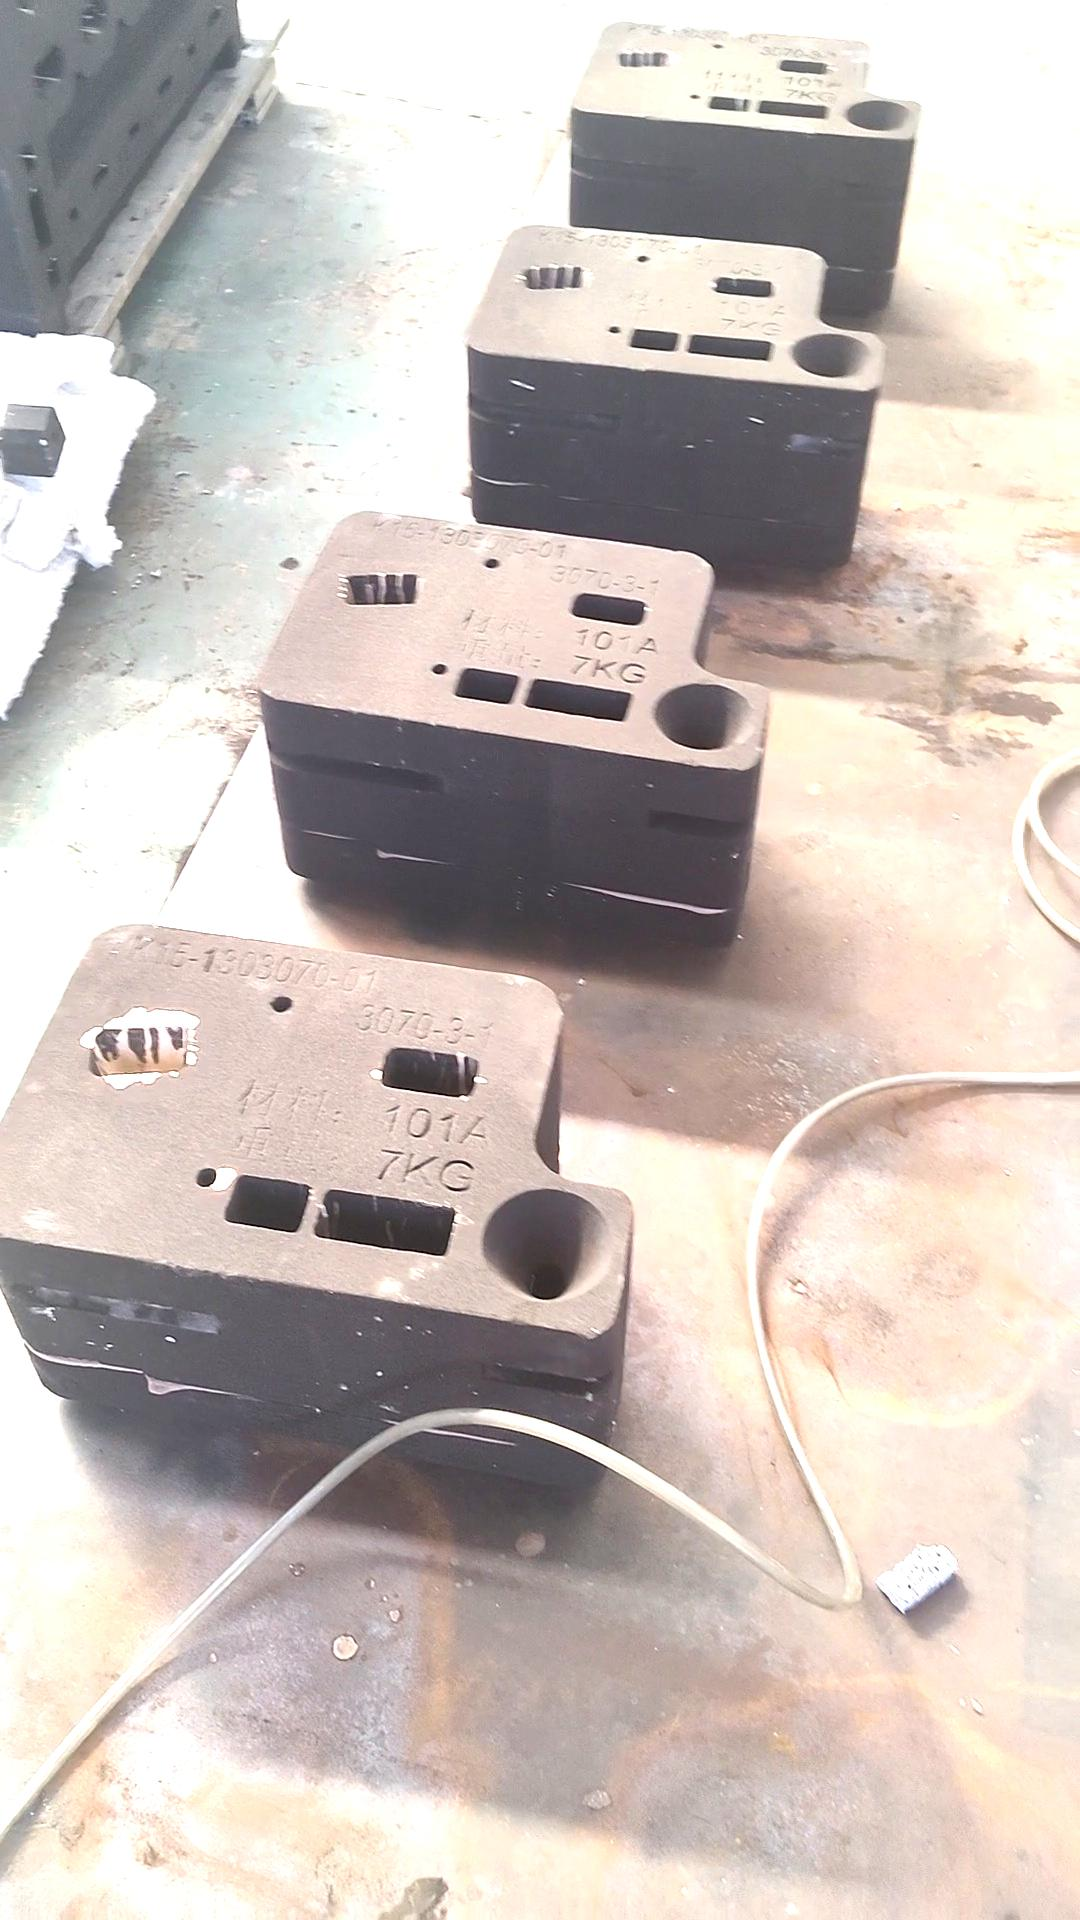pouring hole: (481, 1189, 615, 1302), (651, 680, 754, 754), (790, 332, 872, 378), (844, 102, 915, 135)
